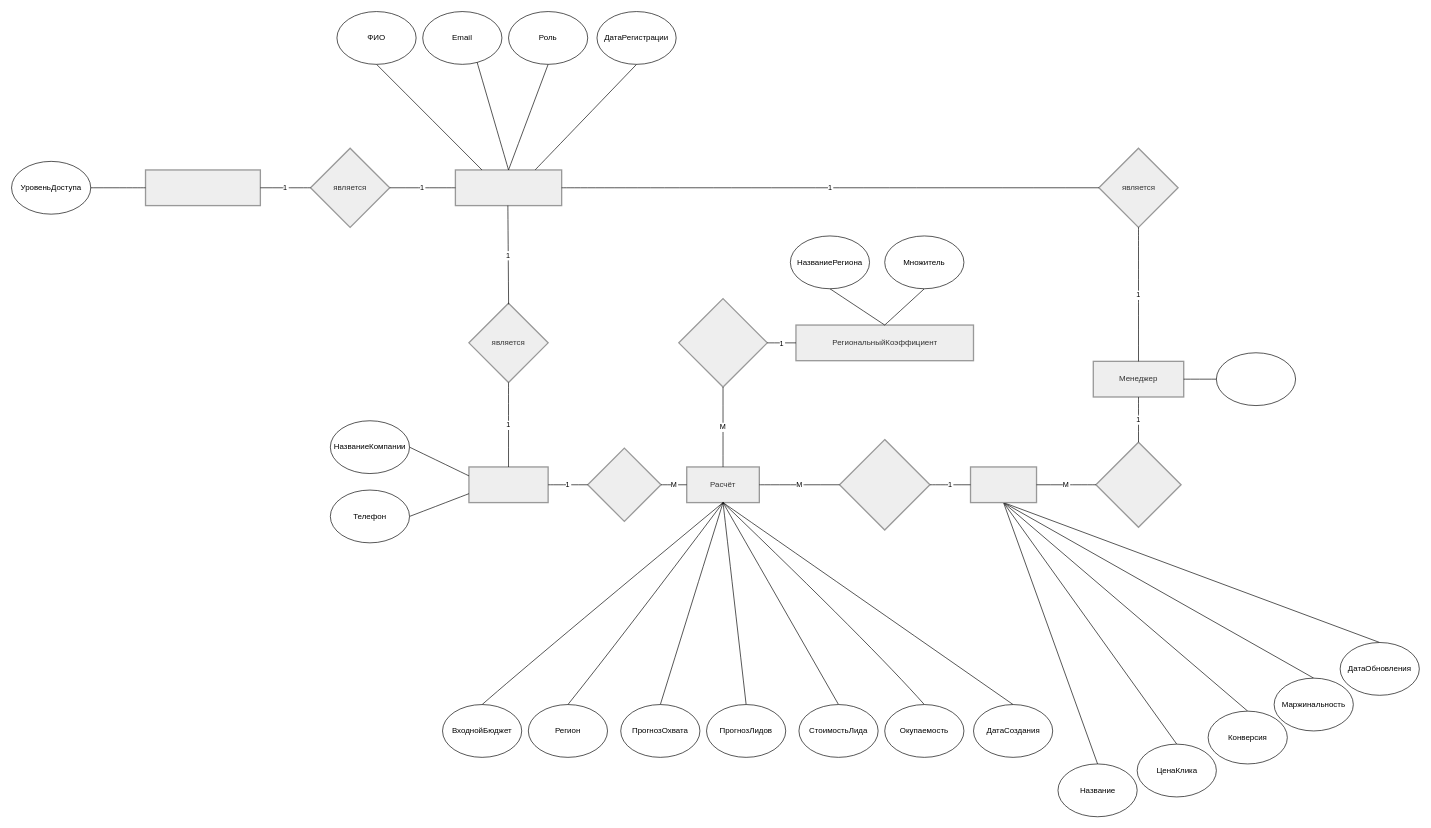
The diagram is 1431 pixels wide and 828 high, and some of its shapes have lost their labels. Each missing label, with the centre of its shape:
Администратор: the point at 203,187
использует: the point at 884,484
Клиент: the point at 508,484
Ниша: the point at 1003,484
Отдел: the point at 1256,379
Пользователь: the point at 508,187
применяет: the point at 723,342
создаёт: the point at 624,484
управляет: the point at 1138,484
